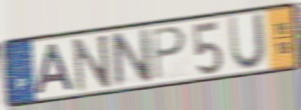5: (191, 18, 226, 77)
A: (34, 41, 77, 97)
N: (108, 26, 154, 90), (71, 32, 114, 94)
P: (150, 25, 188, 83)
U: (226, 11, 268, 73)
